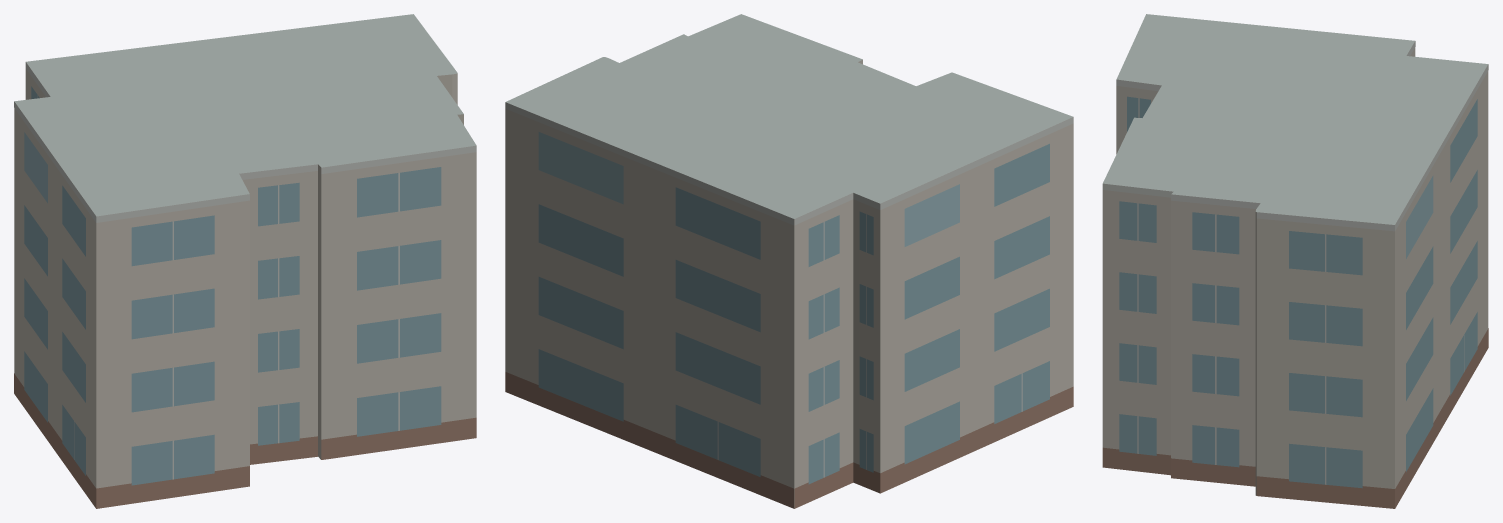
The model's file is survey-upis-32600978.glb.
The picture shows the model from 3 angles, left to right: view 1: azimuth 30°, elevation 25°; view 2: azimuth 150°, elevation 25°; view 3: azimuth 270°, elevation 25°; orthographic projection. The views are drawn at different scales.
Parts seen in each view (by area): view 1: survey-upis-32600978.tmp; view 2: survey-upis-32600978.tmp; view 3: survey-upis-32600978.tmp.
Part boxes in pixels (x1,y1,x2,y2): survey-upis-32600978.tmp: [14, 14, 476, 508]; survey-upis-32600978.tmp: [505, 14, 1073, 508]; survey-upis-32600978.tmp: [1102, 14, 1488, 508].
Bounding box in the file's own units: 17.5 × 10.97 × 13.52.
